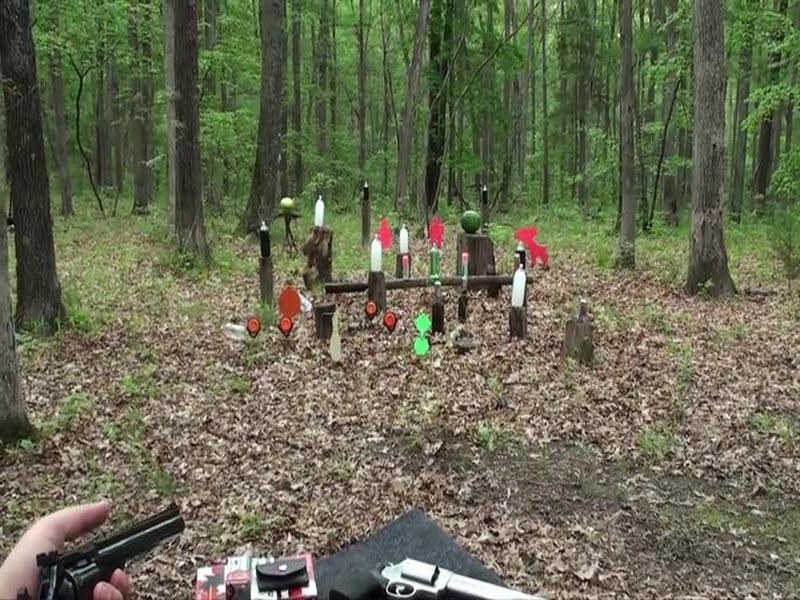Revolver: (1, 491, 202, 593)
